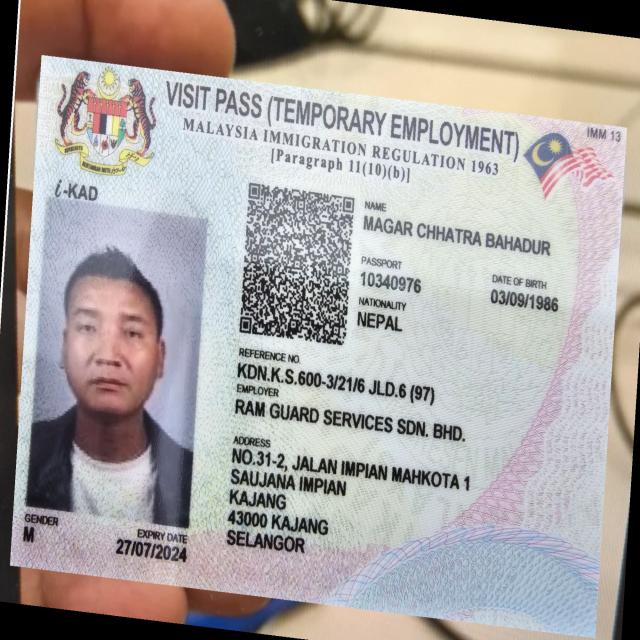ikad-temp: (9, 52, 628, 637)
